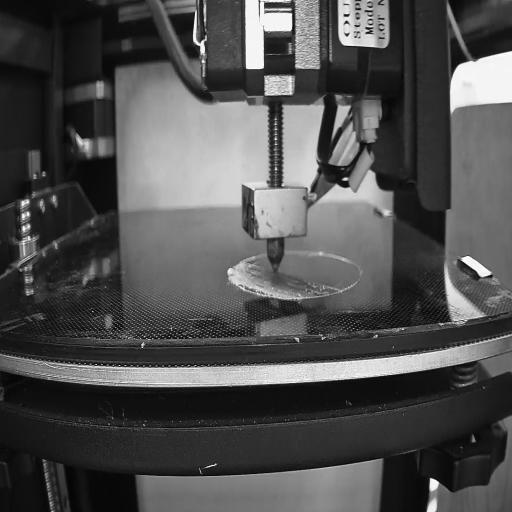under_extrusion: (238, 256, 269, 298), (285, 282, 338, 304)
